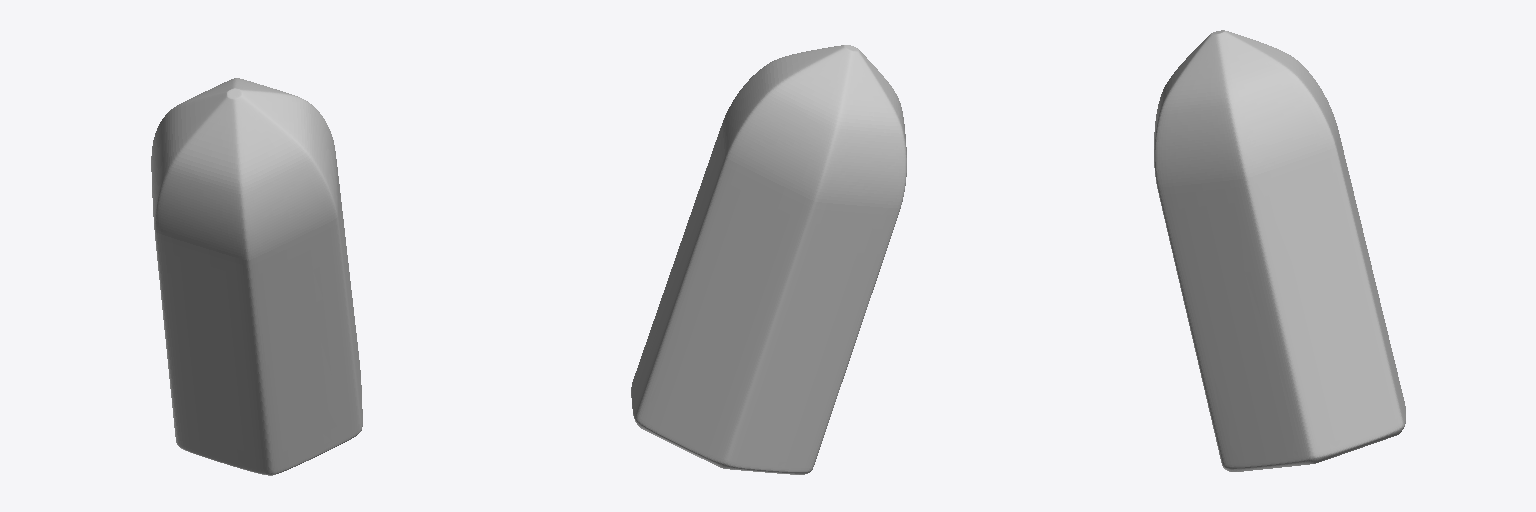
File: peaom.obj
3 renders of one model, left to right at view 1: azimuth 30°, elevation 25°; view 2: azimuth 150°, elevation 25°; view 3: azimuth 270°, elevation 25°, orthographic.
Visible parts, largest first — view 1: peaom; view 2: peaom; view 3: peaom.
Boxes of the visible parts, x1=… form: peaom: x1=151, y1=78, x2=362, y2=475; peaom: x1=631, y1=45, x2=906, y2=474; peaom: x1=1154, y1=30, x2=1405, y2=471.
Bounding box in the file's own units: 3.11 × 5.02 × 2.87.